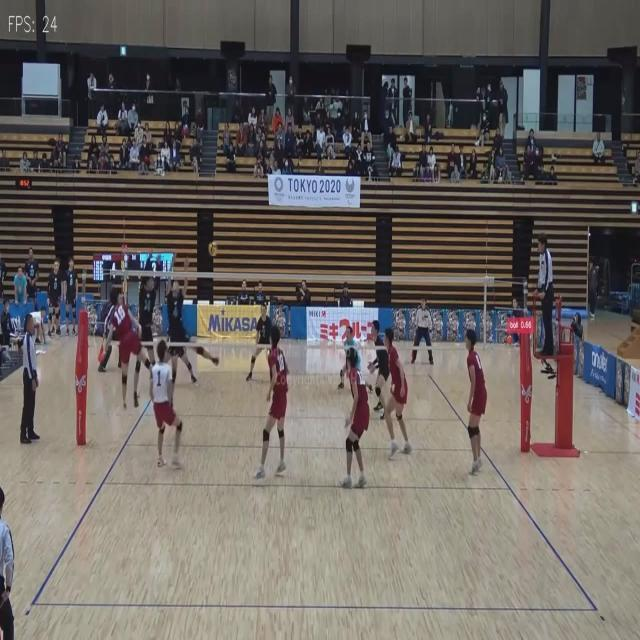volleyball: (208, 242, 216, 256)
